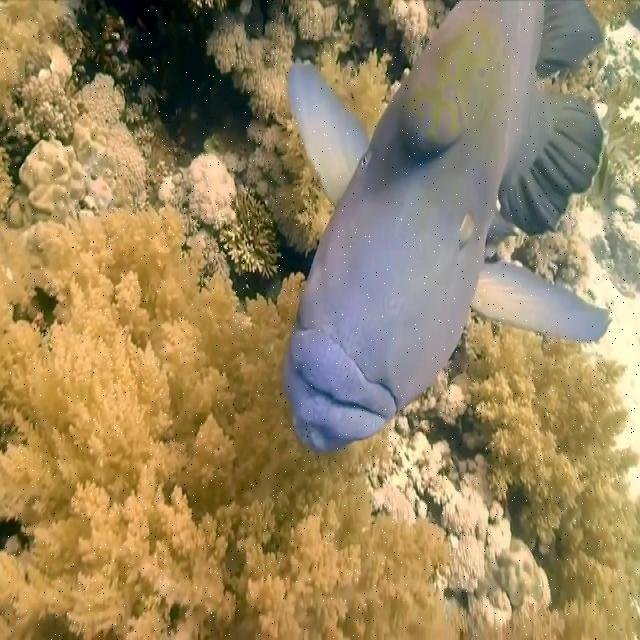fish: (284, 0, 609, 452)
reefs: (0, 202, 461, 639), (159, 1, 458, 278), (460, 318, 639, 639), (369, 314, 551, 627), (0, 0, 148, 228)
